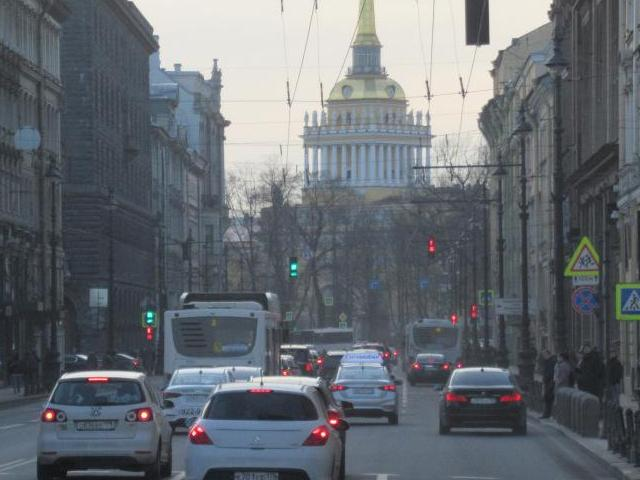bus: (161, 291, 280, 386), (401, 313, 466, 379), (302, 326, 358, 353)
